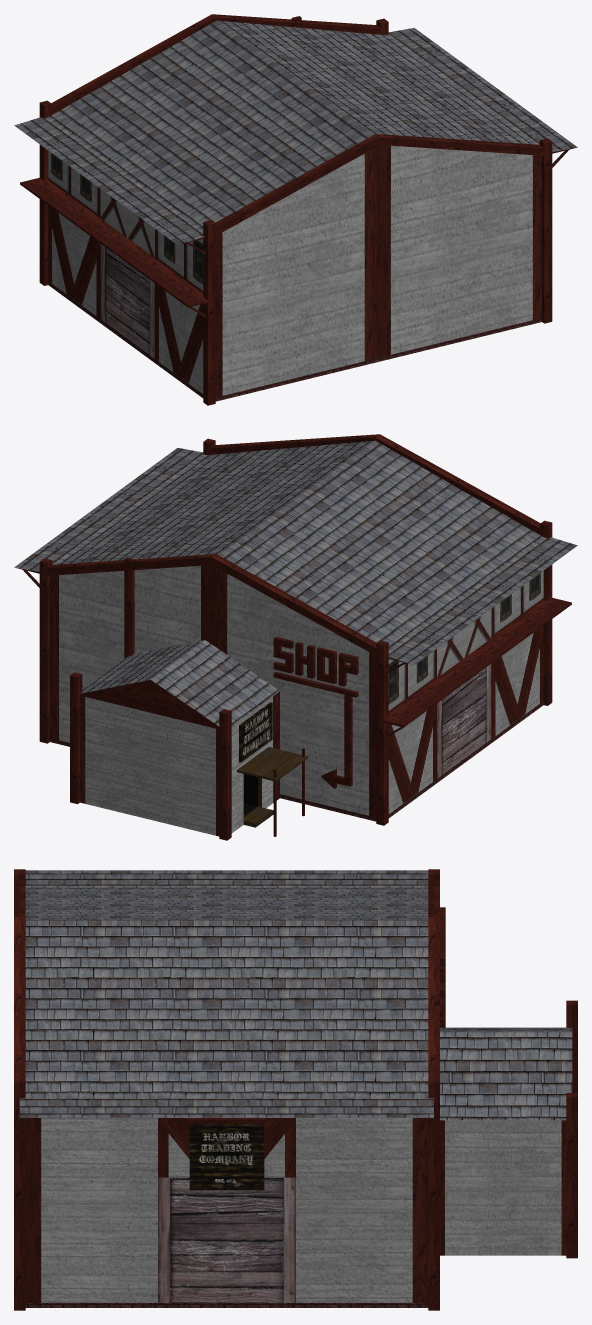
The model's file is tradingCompanyEXT.gltf.
3 renders of one model, top to bottom at view 1: azimuth 30°, elevation 25°; view 2: azimuth 150°, elevation 25°; view 3: azimuth 270°, elevation 25°, orthographic. The views are drawn at different scales.
Parts seen in each view (by area): view 1: tradingCompanyEXT; view 2: tradingCompanyEXT; view 3: tradingCompanyEXT.
Part boxes in pixels (left/top/right/bottom): tradingCompanyEXT: left=14, top=14, right=577, bottom=405; tradingCompanyEXT: left=14, top=434, right=577, bottom=840; tradingCompanyEXT: left=14, top=869, right=577, bottom=1310.
Bounding box in the file's own units: 25.44 × 13.75 × 24.5.
Materials: 14 (14 with a texture image).
